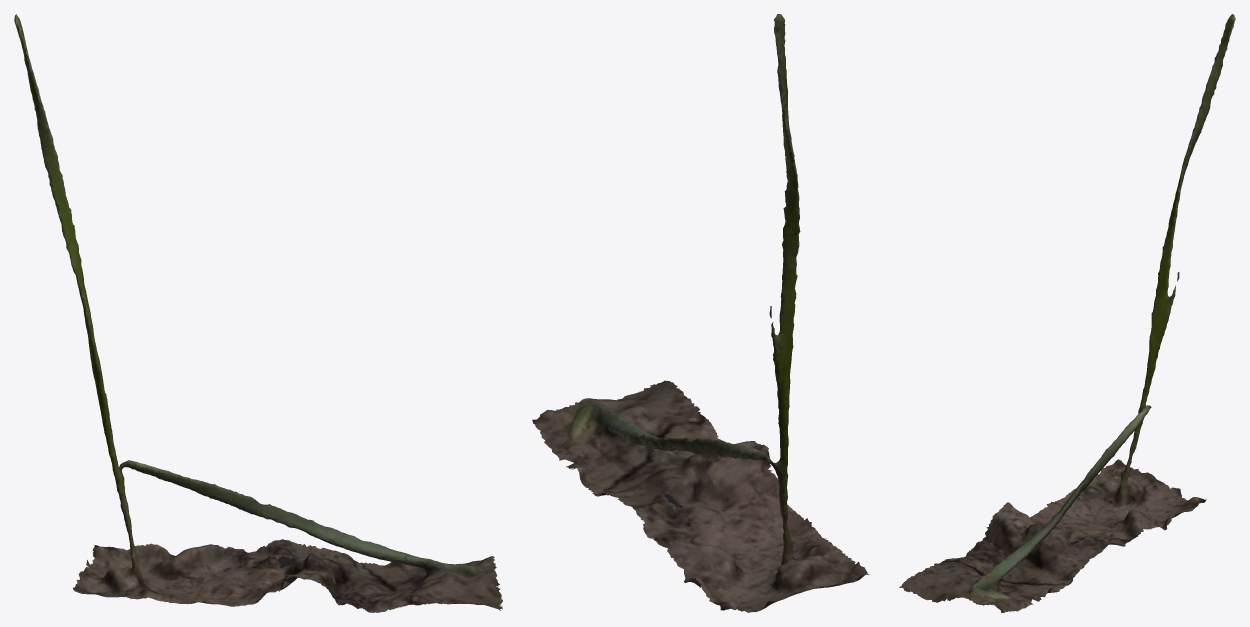
Rendered from Day9.glb.
3 renders of one model, left to right at view 1: azimuth 30°, elevation 25°; view 2: azimuth 150°, elevation 25°; view 3: azimuth 270°, elevation 25°, orthographic. The views are drawn at different scales.
Visible parts, largest first — view 1: Day9; view 2: Day9; view 3: Day9.
Boxes of the visible parts, x1,y1,x2,y2 form: Day9: [14, 14, 502, 612]; Day9: [532, 14, 869, 612]; Day9: [899, 14, 1235, 612].
Size of the model in its own units: 0.521 by 0.7666 by 0.4977.
43 materials, 43 textured.
